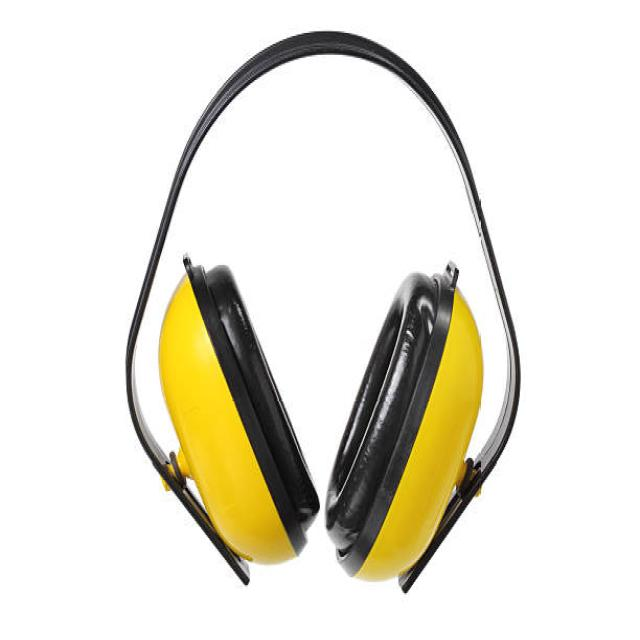Ear-protection: (117, 17, 533, 598)
